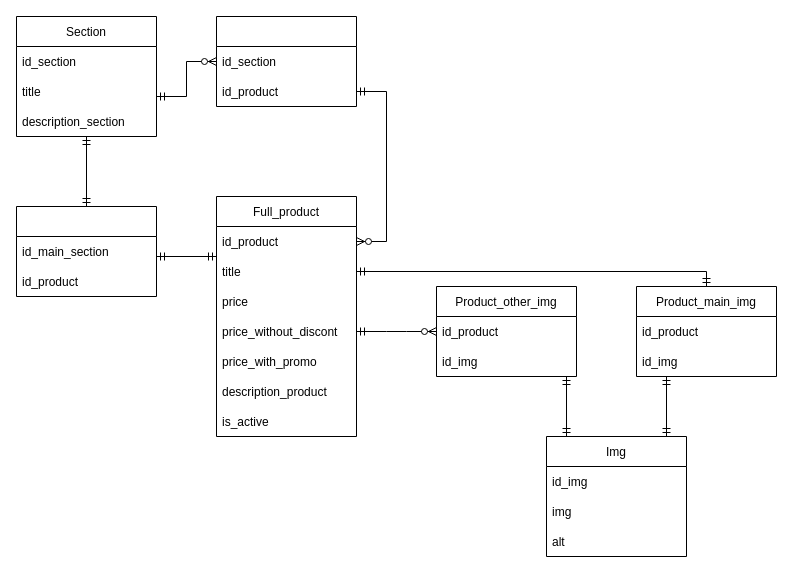
Some shapes in this 793 by 573 pixel diagram are drawn without their labels. The box of each missing label's shape, as (x1, y1, x2, y2) in pixels:
Product_main_section: (16, 206, 156, 296)
Product_section: (216, 16, 356, 106)
